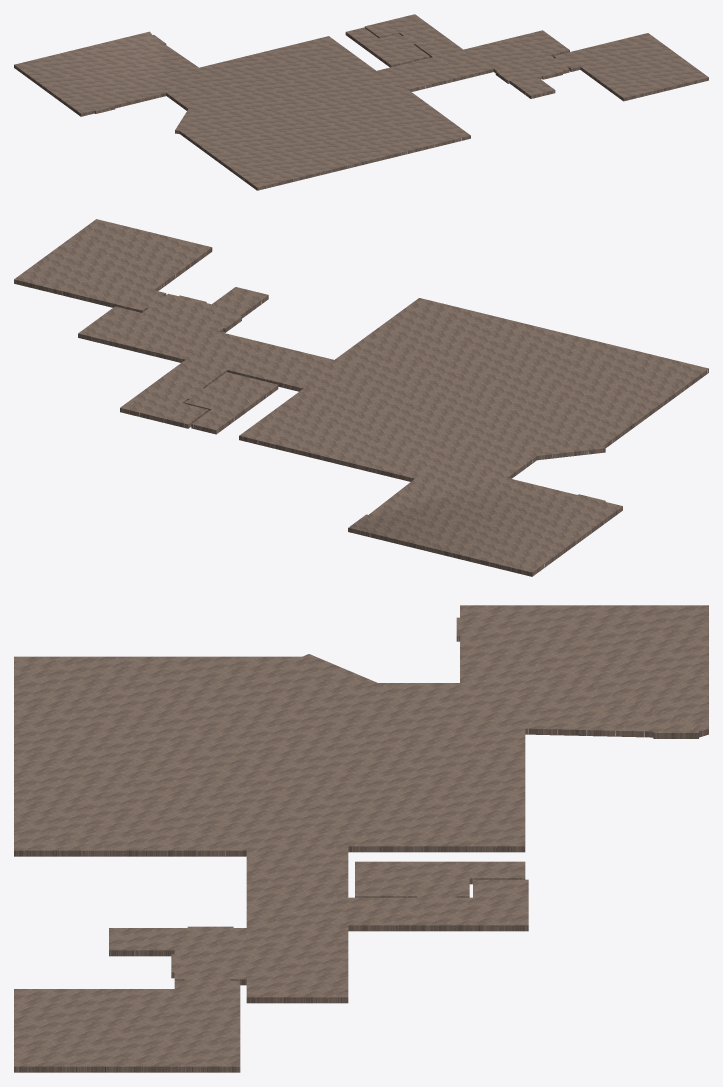
The model's file is 1989_kitchen_Floor_Valor.gltf.
The picture shows the model from 3 angles, top to bottom: view 1: azimuth 30°, elevation 25°; view 2: azimuth 150°, elevation 25°; view 3: azimuth 270°, elevation 25°; orthographic projection. The views are drawn at different scales.
Visible parts, largest first — view 1: Line23799; view 2: Line23799; view 3: Line23799.
Part boxes in pixels (box(x1,y1,x2,y2)): Line23799: box(14, 14, 708, 190); Line23799: box(14, 219, 708, 576); Line23799: box(14, 605, 708, 1072).
Bounding box in the file's own units: 33.3 × 0.3 × 21.2.
Materials: 1 (1 with a texture image).
